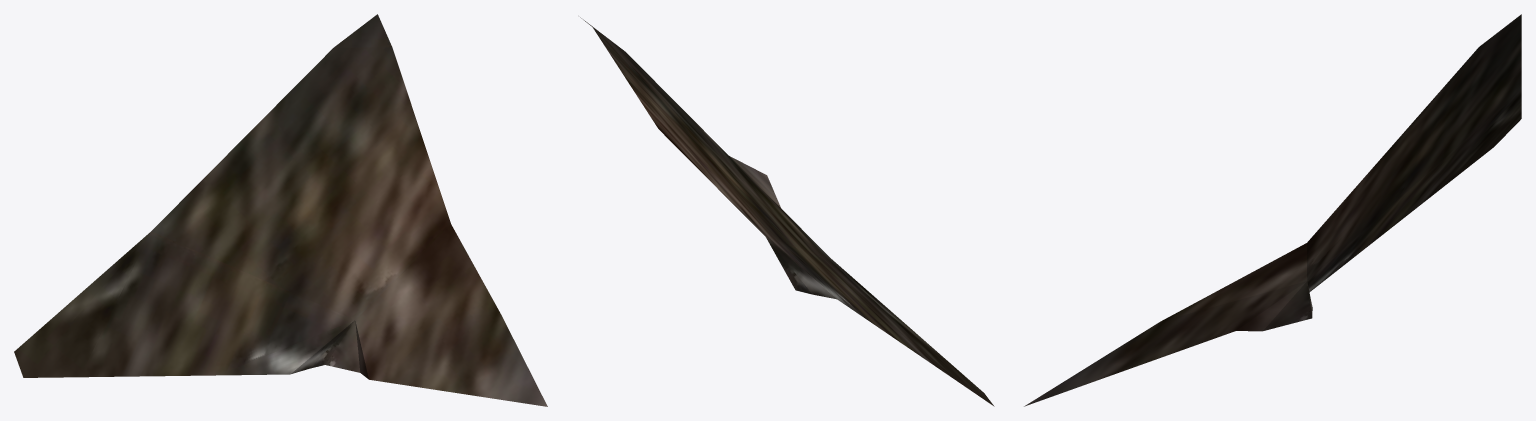
3 renders of one model, left to right at view 1: azimuth 30°, elevation 25°; view 2: azimuth 150°, elevation 25°; view 3: azimuth 270°, elevation 25°, orthographic. The views are drawn at different scales.
Size of the model in its own units: 0.8374 by 0.5904 by 0.6789.
2 materials, 2 textured.
